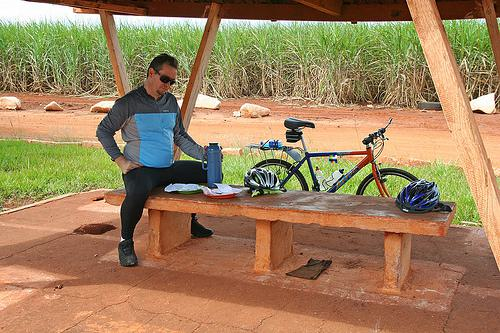bottle: (202, 144, 223, 189)
car: (248, 119, 418, 199)
person: (96, 54, 215, 268)
